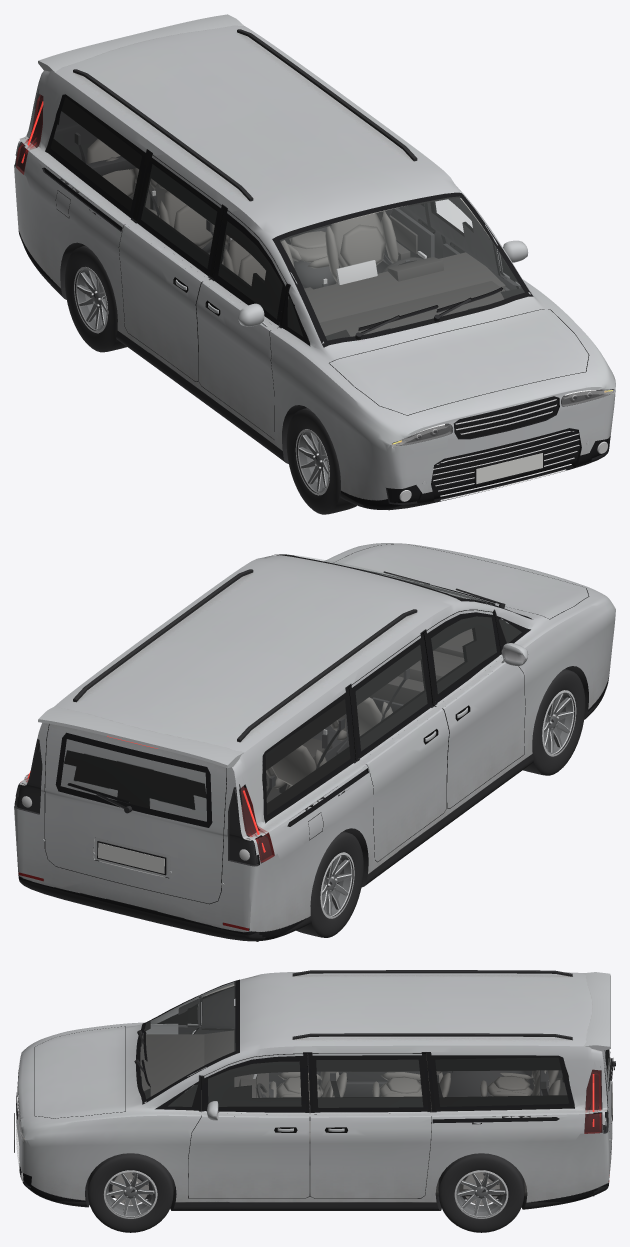
The model's file is h3-v4-minivan.glb.
The picture shows the model from 3 angles, top to bottom: view 1: azimuth 30°, elevation 25°; view 2: azimuth 150°, elevation 25°; view 3: azimuth 270°, elevation 25°; orthographic projection. The views are drawn at different scales.
Visible parts, largest first — view 1: body, glass_windshield, bonnet_panel, sliding_door_R_panel, interior, door_FR_panel, seats, glass_side_r_R, sliding_door_R_glass_side_m_R, wheel_FR_mesh, door_FR_glass_side_f_R, wheel_RR_mesh (+9 smaller); view 2: body, tailgate_panel, sliding_door_R_panel, door_FR_panel, tailgate_glass_rear, bonnet_panel, glass_side_r_R, sliding_door_R_glass_side_m_R, door_FR_glass_side_f_R, wheel_RR_mesh, wheel_FR_mesh, tailgate_spoiler (+8 smaller); view 3: body, sliding_door_L_panel, door_FL_panel, glass_windshield, glass_side_r_L, bonnet_panel, sliding_door_L_glass_side_m_L, wheel_FL_mesh, wheel_RL_mesh, door_FL_glass_side_f_L, interior, seats (+8 smaller).
Part boxes in pixels (x1,y1,x2,y2): body: (14, 25, 615, 510); glass_windshield: (272, 192, 533, 347); bonnet_panel: (329, 309, 588, 415); sliding_door_R_panel: (119, 153, 224, 381); interior: (87, 156, 505, 336); door_FR_panel: (196, 208, 288, 439); seats: (74, 132, 398, 289); glass_side_r_R: (45, 94, 146, 218); sliding_door_R_glass_side_m_R: (136, 157, 221, 276); wheel_FR_mesh: (286, 408, 356, 514); door_FR_glass_side_f_R: (213, 212, 286, 325); wheel_RR_mesh: (65, 245, 126, 352); body: (14, 543, 615, 941); tailgate_panel: (45, 724, 226, 903); sliding_door_R_panel: (348, 633, 448, 861); door_FR_panel: (423, 610, 525, 808); tailgate_glass_rear: (55, 732, 212, 827); bonnet_panel: (333, 544, 588, 619); glass_side_r_R: (262, 691, 354, 823); sliding_door_R_glass_side_m_R: (352, 637, 431, 758); door_FR_glass_side_f_R: (427, 612, 500, 703); wheel_RR_mesh: (296, 831, 363, 937); wheel_FR_mesh: (523, 669, 585, 775); tailgate_spoiler: (38, 706, 243, 768); body: (16, 972, 612, 1210); sliding_door_L_panel: (308, 1053, 431, 1198); door_FL_panel: (188, 1053, 309, 1198); glass_windshield: (136, 979, 239, 1104); glass_side_r_L: (430, 1055, 574, 1111); bonnet_panel: (35, 1026, 125, 1118); sliding_door_L_glass_side_m_L: (311, 1055, 428, 1112); wheel_FL_mesh: (87, 1153, 173, 1232); wheel_RL_mesh: (438, 1153, 524, 1232); door_FL_glass_side_f_L: (203, 1056, 306, 1112); interior: (140, 1030, 593, 1196); seats: (270, 1054, 562, 1165).
Size of the model in its own units: 2.25 by 1.74 by 5.15.
37 materials, 1 textured.
